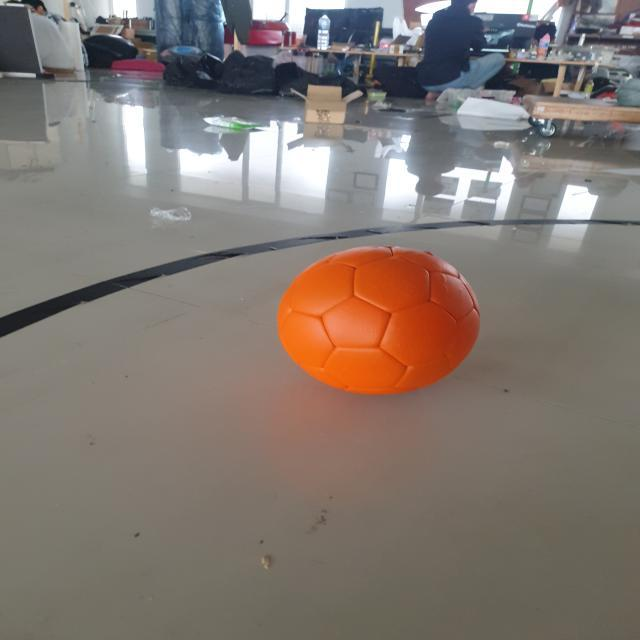bola: (256, 240, 498, 403)
